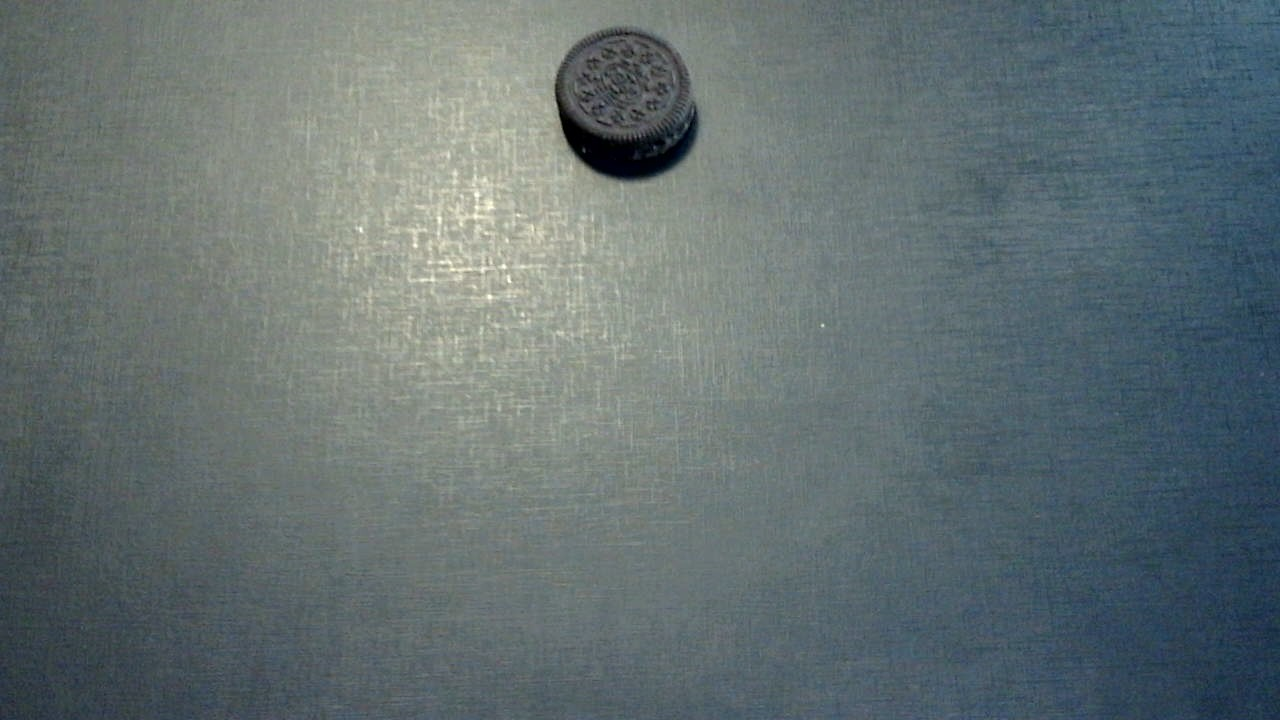oreo: (555, 24, 697, 165)
